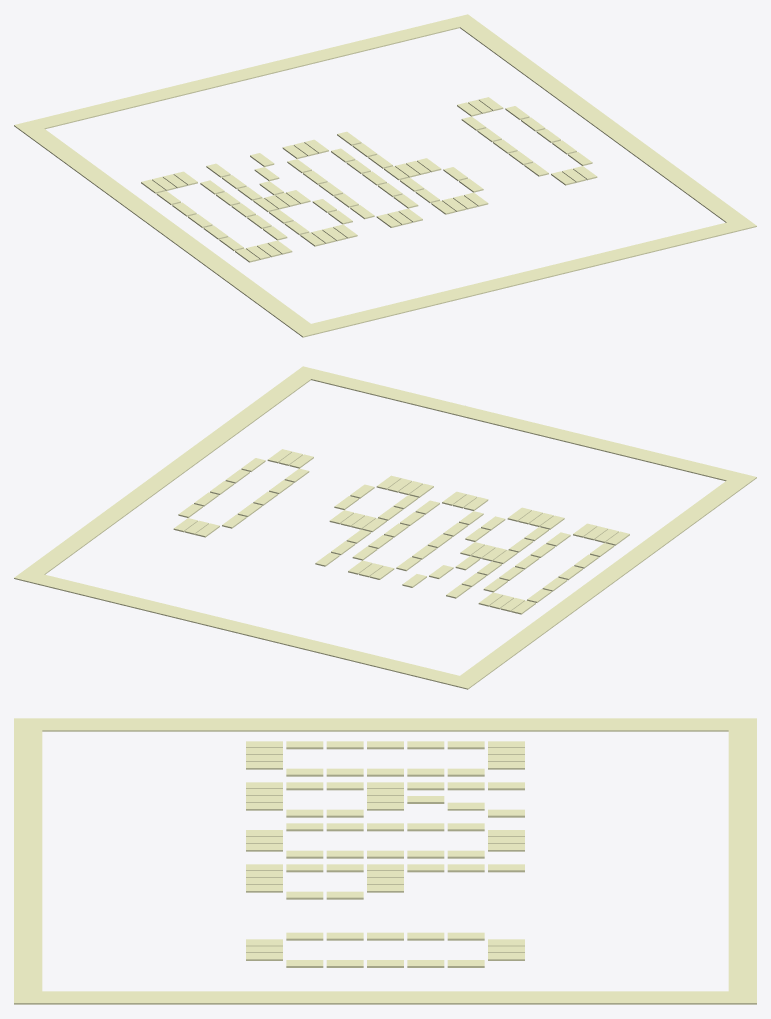
The model's file is marking_drop_off_box_white.glb.
The picture shows the model from 3 angles, top to bottom: view 1: azimuth 30°, elevation 25°; view 2: azimuth 150°, elevation 25°; view 3: azimuth 270°, elevation 25°; orthographic projection. The views are drawn at different scales.
Visible parts, largest first — view 1: drop_off_box_bottom, drop_off_box_top, drop_off_box_left, drop_off_box_right; view 2: drop_off_box_top, drop_off_box_bottom, drop_off_box_left, drop_off_box_right; view 3: drop_off_box_left, drop_off_box_right, drop_off_box_top, drop_off_box_bottom.
Part boxes in pixels (<box>): drop_off_box_bottom: <box>292,218,756,337</box>; drop_off_box_top: <box>14,14,478,133</box>; drop_off_box_left: <box>25,128,310,329</box>; drop_off_box_right: <box>460,22,745,222</box>; drop_off_box_top: <box>14,570,478,689</box>; drop_off_box_bottom: <box>292,366,756,485</box>; drop_off_box_left: <box>460,480,745,681</box>; drop_off_box_right: <box>25,374,310,574</box>; drop_off_box_left: <box>42,718,728,731</box>; drop_off_box_right: <box>42,991,728,1004</box>; drop_off_box_top: <box>728,718,756,1004</box>; drop_off_box_bottom: <box>14,718,42,1004</box>.
Size of the model in its own units: 2.14 by 0.006 by 2.36.
